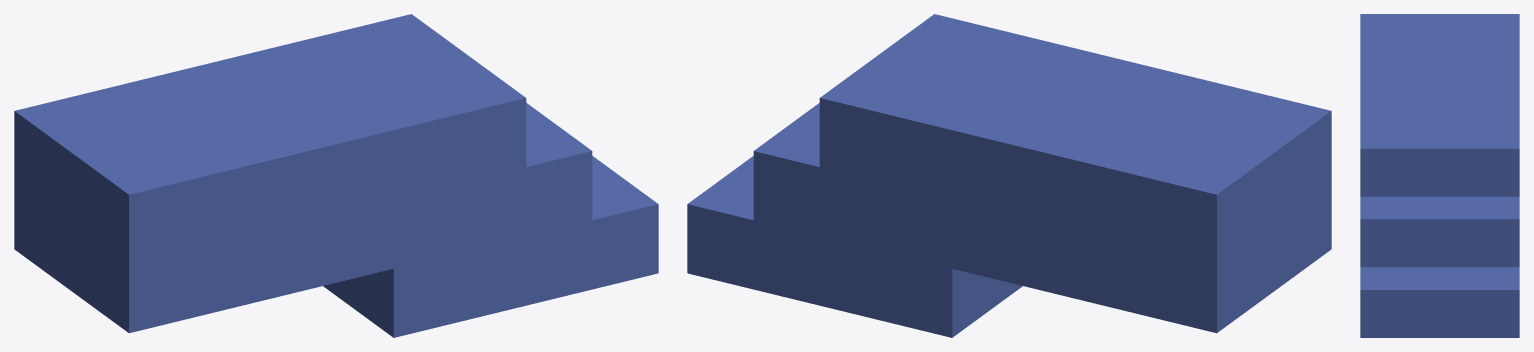
The model's file is MArcherArmUpperR.fbx.
The picture shows the model from 3 angles, left to right: view 1: azimuth 30°, elevation 25°; view 2: azimuth 150°, elevation 25°; view 3: azimuth 270°, elevation 25°; orthographic projection. The views are drawn at different scales.
Parts seen in each view (by area): view 1: RamzaArms_part_5; view 2: RamzaArms_part_5; view 3: RamzaArms_part_5.
Part boxes in pixels (left/top/right/bottom): RamzaArms_part_5: left=14, top=14, right=658, bottom=337; RamzaArms_part_5: left=687, top=14, right=1331, bottom=337; RamzaArms_part_5: left=1360, top=14, right=1519, bottom=337.
Bounding box in the file's own units: 8 × 3 × 3.
Materials: 1 (1 with a texture image).
